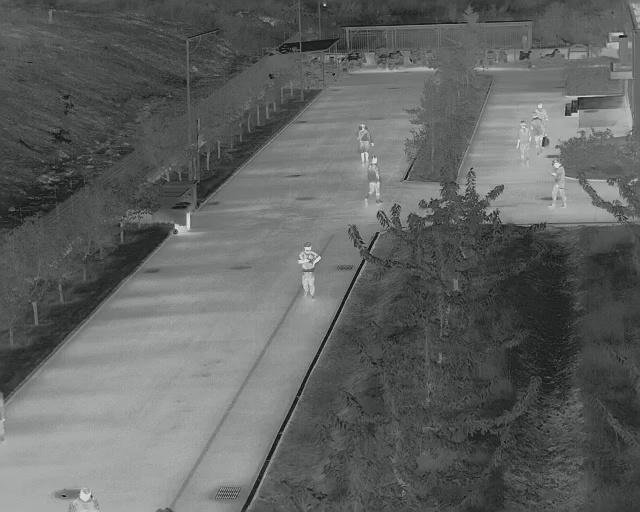person: (298, 240, 320, 298), (546, 158, 568, 207), (513, 119, 530, 167), (367, 155, 383, 205), (532, 102, 549, 148), (357, 123, 373, 165)
